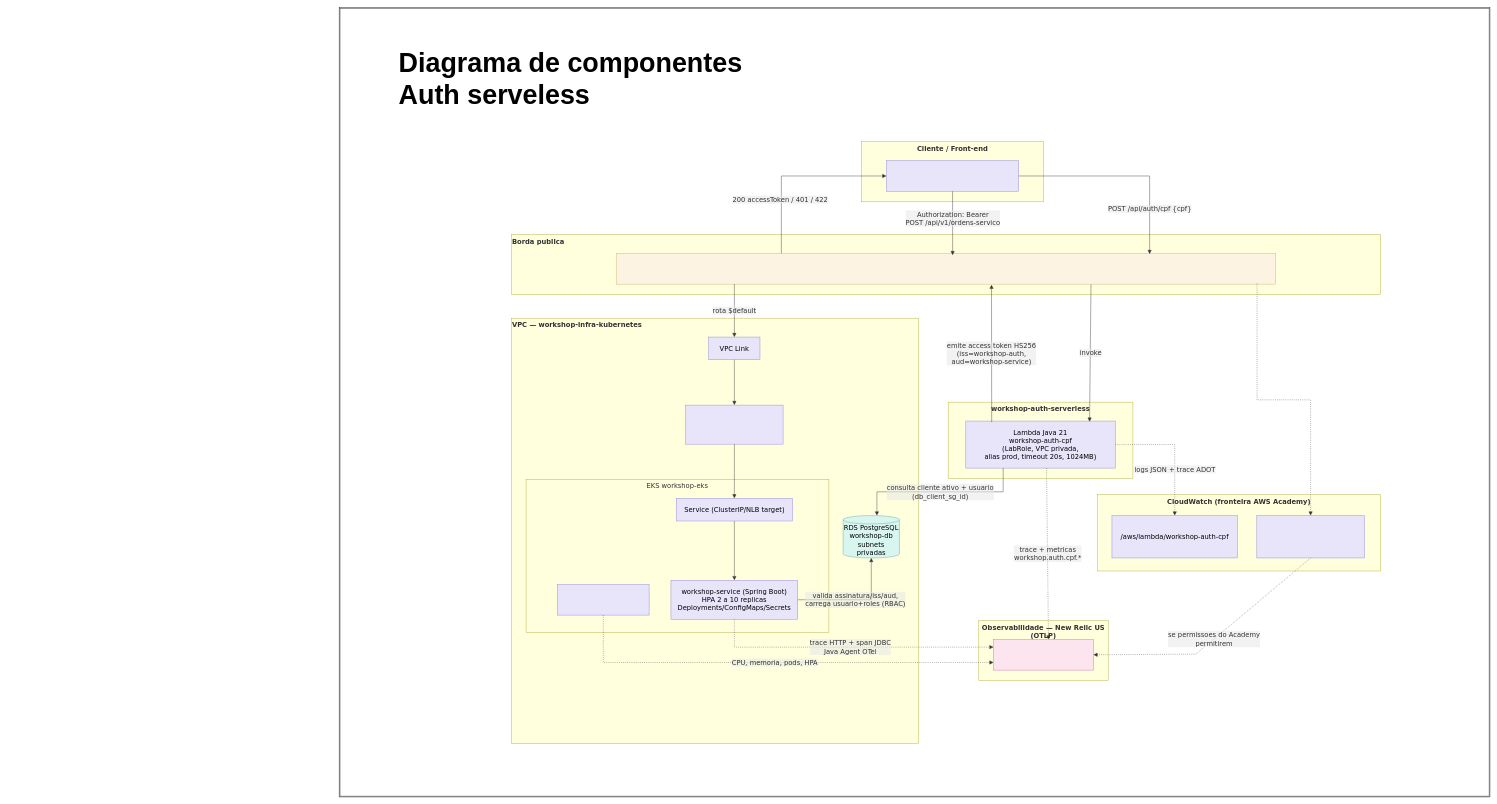
Image size: 1497x804. Some labels were removed from this diagram. The shapes that lost their labels are listed below. From the top down, each one's centre as x and y in pixels, then its label:
point 952,175: Usuario / Sistema consumidor
point 945,268: API Gateway HTTP API (unica borda publica)
point 734,424: NLB interno workshop-api-internal (sem exposicao publica)
point 1310,536: Access logs do API Gateway (sem body/CPF/token)
point 603,599: NRDOT collector (namespace newrelic)
point 1043,654: New Relic 6 dashboards + alerta G5
